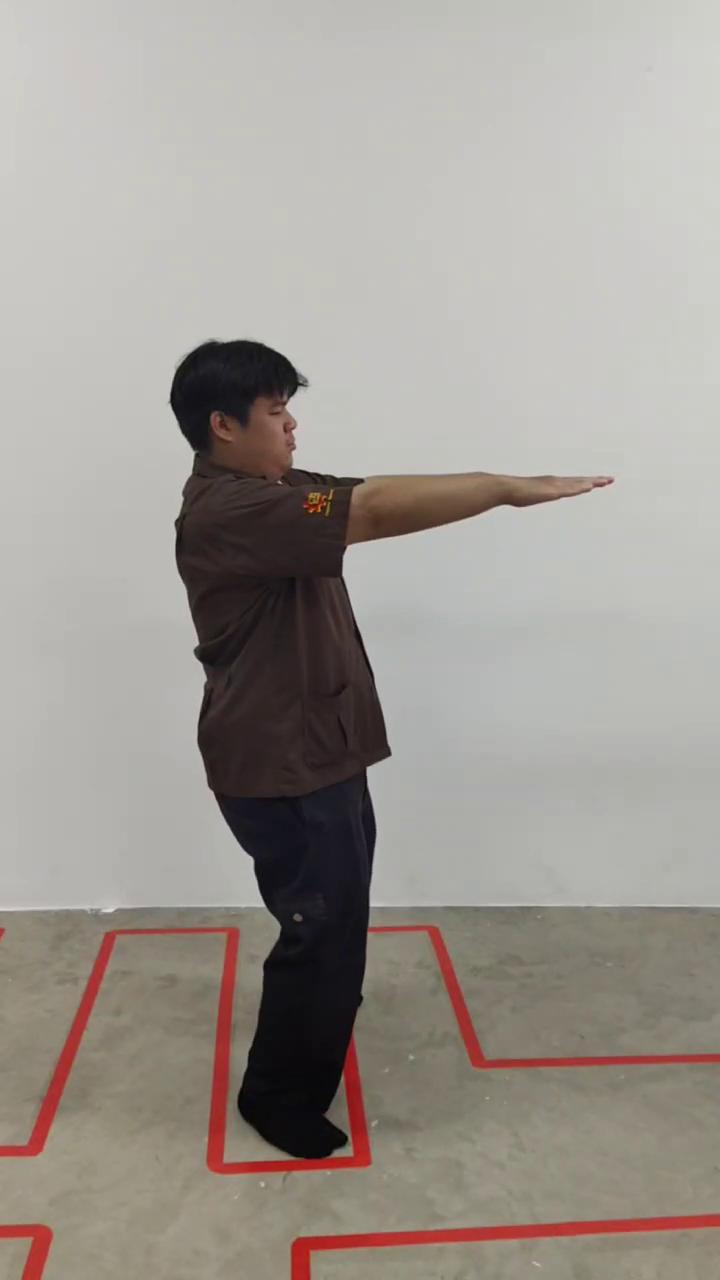squat up: (170, 338, 611, 1166)
